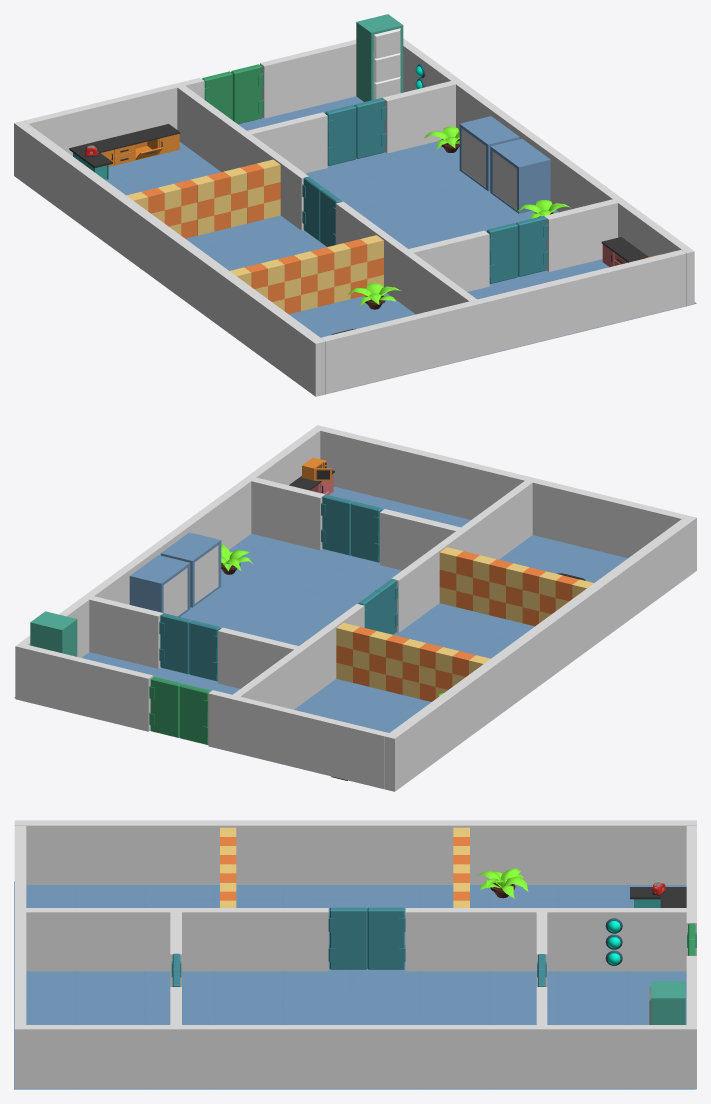
File: maps_16.fbx
The picture shows the model from 3 angles, top to bottom: view 1: azimuth 30°, elevation 25°; view 2: azimuth 150°, elevation 25°; view 3: azimuth 270°, elevation 25°; orthographic projection. The views are drawn at different scales.
Parts seen in each view (by area): view 1: wall_01_08_geo, wall_01_05_geo, wall_01_07_geo, wall_01_06_geo, wall_01_12_geo, wall_01_09_geo, wall_01_10_geo, wall_01_11_geo, wall_01_01_geo, polySurface189, wall_01_04_geo, wall_01_03_geo (+15 smaller); view 2: wall_01_08_geo, wall_01_07_geo, wall_01_05_geo, wall_01_09_geo, wall_01_06_geo, wall_01_10_geo, wall_01_11_geo, wall_01_12_geo, wall_01_01_geo, wall_01_04_geo, wall_01_03_geo, wall_01_02_geo (+13 smaller); view 3: wall_01_08_geo, wall_01_06_geo, wall_01_07_geo, wall_01_11_geo, wall_01_12_geo, wall_01_05_geo, polySurface177, polySurface174, polySurface189, wall_01_09_geo, Imbush_geo3, polySurface117 (+7 smaller).
Boxes of the visible parts, left/top/right/bottom form: wall_01_08_geo: left=105, top=96, right=696, bottom=395; wall_01_05_geo: left=321, top=249, right=686, bottom=394; wall_01_07_geo: left=14, top=120, right=325, bottom=396; wall_01_06_geo: left=403, top=38, right=694, bottom=306; wall_01_12_geo: left=177, top=86, right=308, bottom=230; wall_01_09_geo: left=24, top=77, right=204, bottom=155; wall_01_10_geo: left=260, top=39, right=356, bottom=118; wall_01_11_geo: left=335, top=201, right=476, bottom=314; wall_01_01_geo: left=382, top=81, right=455, bottom=153; polySurface189: left=356, top=14, right=403, bottom=101; wall_01_04_geo: left=544, top=199, right=617, bottom=271; wall_01_03_geo: left=408, top=230, right=489, bottom=291; wall_01_08_geo: left=14, top=486, right=627, bottom=744; wall_01_07_geo: left=385, top=515, right=696, bottom=791; wall_01_05_geo: left=320, top=427, right=686, bottom=557; wall_01_09_geo: left=208, top=690, right=388, bottom=789; wall_01_06_geo: left=15, top=425, right=324, bottom=700; wall_01_10_geo: left=23, top=645, right=153, bottom=731; wall_01_11_geo: left=391, top=480, right=532, bottom=632; wall_01_12_geo: left=233, top=604, right=364, bottom=709; wall_01_01_geo: left=89, top=596, right=163, bottom=668; wall_01_04_geo: left=251, top=477, right=324, bottom=550; wall_01_03_geo: left=380, top=509, right=460, bottom=570; wall_01_02_geo: left=218, top=627, right=298, bottom=688; wall_01_08_geo: left=14, top=881, right=695, bottom=1089; wall_01_06_geo: left=14, top=1025, right=696, bottom=1089; wall_01_07_geo: left=14, top=820, right=696, bottom=884; wall_01_11_geo: left=26, top=908, right=328, bottom=971; wall_01_12_geo: left=405, top=908, right=686, bottom=971; wall_01_05_geo: left=14, top=826, right=26, bottom=1024; polySurface177: left=328, top=907, right=366, bottom=969; polySurface174: left=367, top=907, right=405, bottom=969; polySurface189: left=649, top=981, right=685, bottom=1024; wall_01_09_geo: left=686, top=826, right=696, bottom=955; Imbush_geo3: left=476, top=868, right=528, bottom=898; polySurface117: left=630, top=887, right=686, bottom=907.
Bounding box in the file's own units: 66.8 × 13.55 × 91.75.
Materials: 11 (11 with a texture image).
